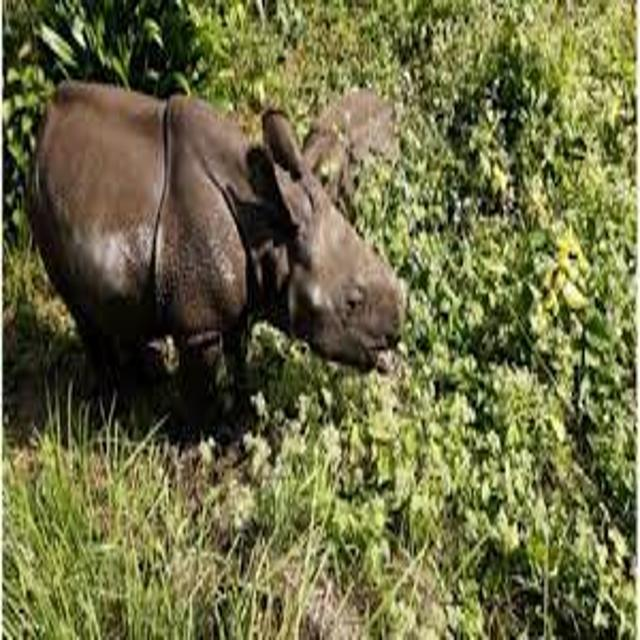rhino: (10, 48, 444, 478)
